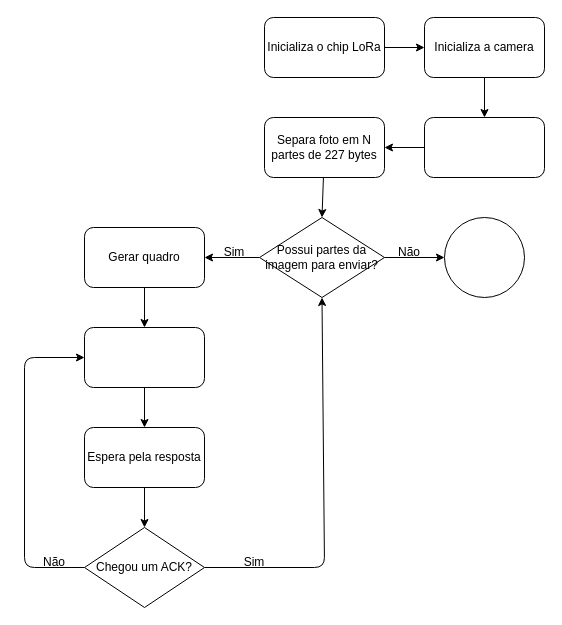
This 562x625 diagram has some shape labels left out. Here are the shapes that lost their labels. From the top down, the centre of each, then its label:
At point 484,147: "Tira uma foto".
At point 484,257: "Fim do envio".
At point 144,357: "Envia quadro".
